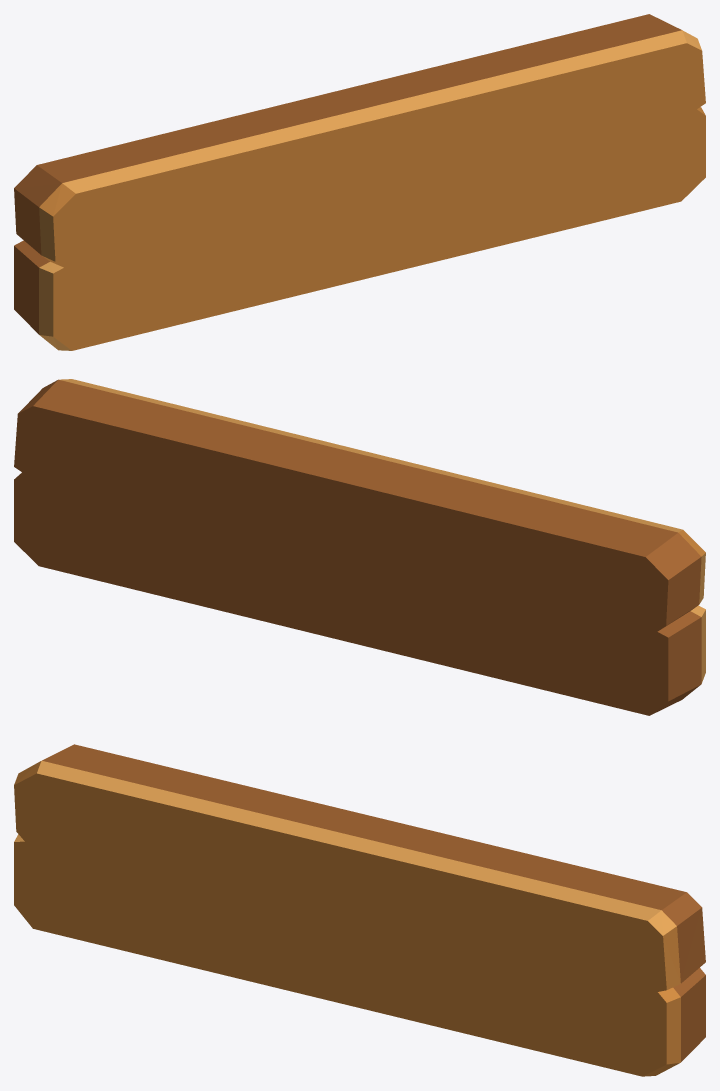
The model's file is Blank.fbx.
The picture shows the model from 3 angles, top to bottom: view 1: azimuth 30°, elevation 25°; view 2: azimuth 150°, elevation 25°; view 3: azimuth 330°, elevation 25°; orthographic projection.
Visible parts, largest first — view 1: Stone.013; view 2: Stone.013; view 3: Stone.013.
Boxes of the visible parts, x1,y1,x2,y2 form: Stone.013: (14,14,705,350); Stone.013: (14,379,705,715); Stone.013: (14,744,705,1076).
Size of the model in its own units: 0.289 by 0.07 by 0.029.
